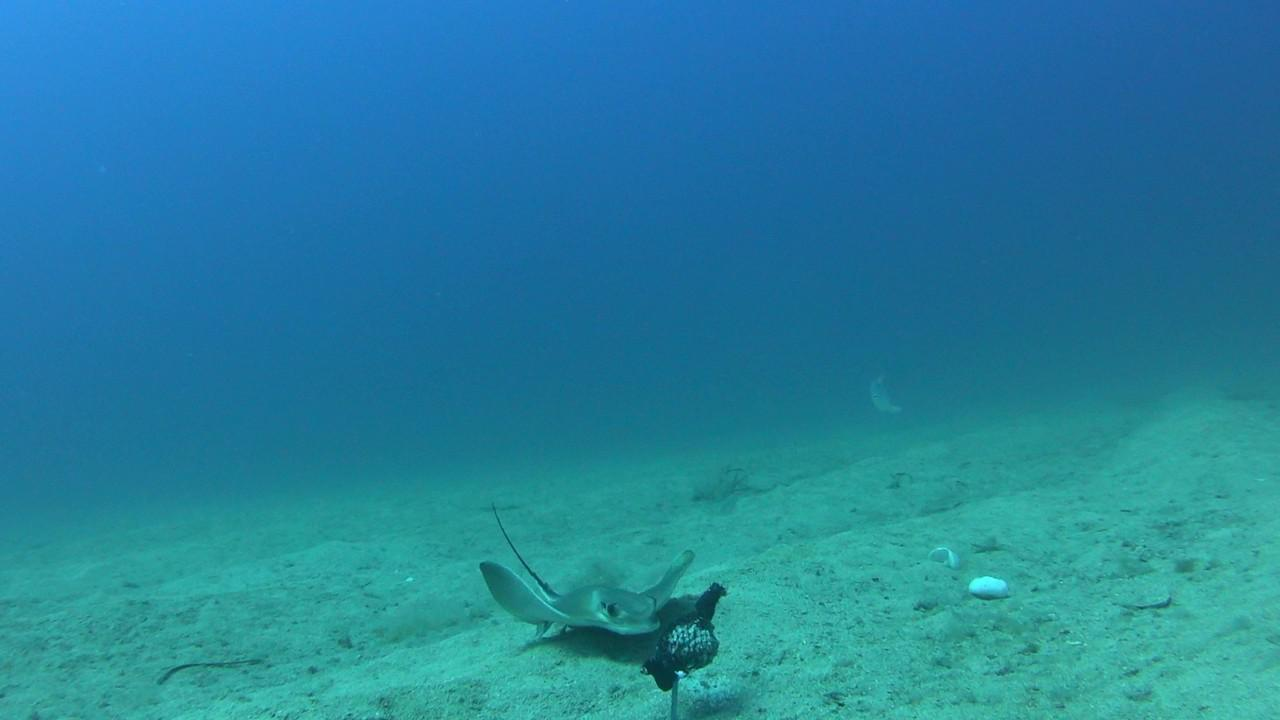myliobatis: (456, 465, 701, 643)
